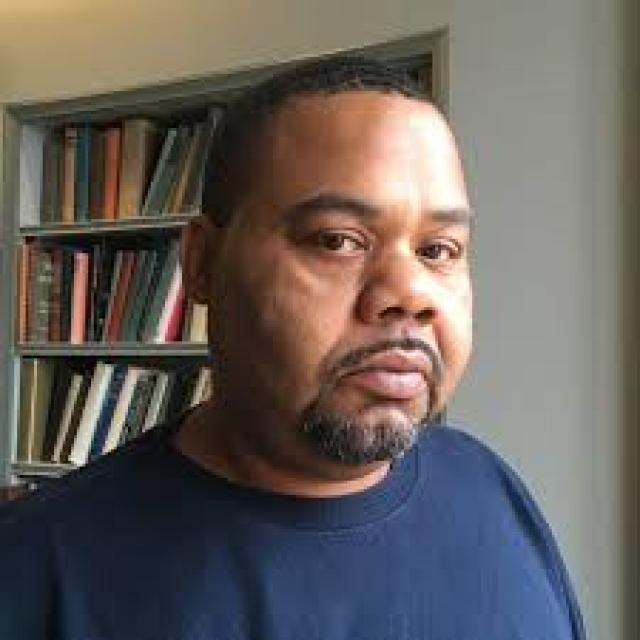normal_face: (201, 80, 518, 502)
